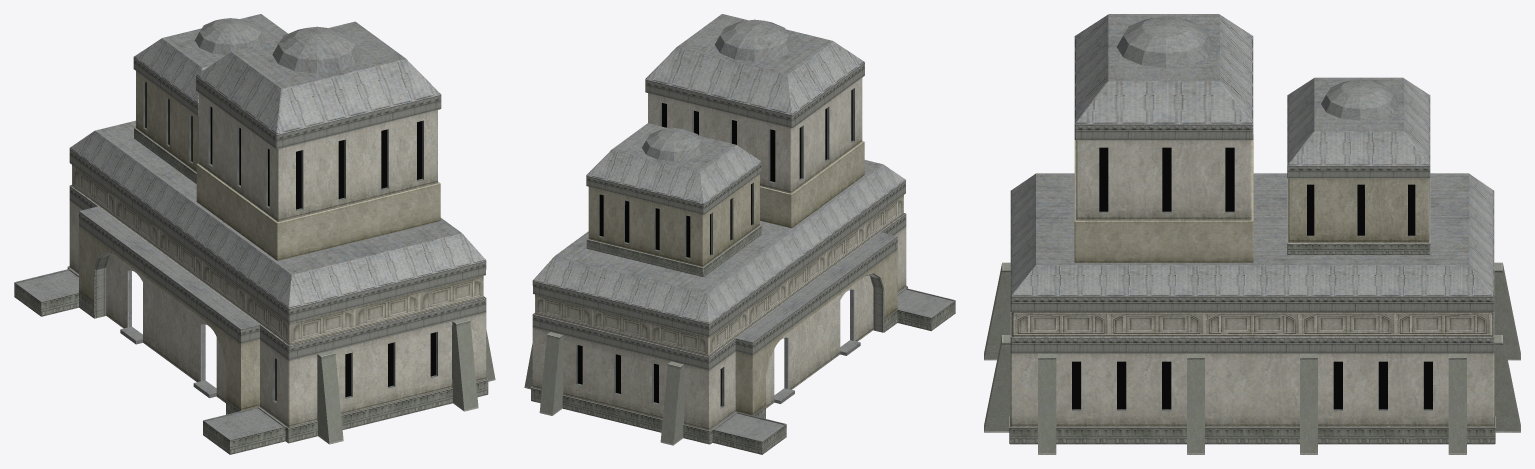
Rendered from thm_corl_imprv_historic_24x16_s02_r0_mesh_l0.fbx.
3 renders of one model, left to right at view 1: azimuth 30°, elevation 25°; view 2: azimuth 150°, elevation 25°; view 3: azimuth 270°, elevation 25°, orthographic. The views are drawn at different scales.
Parts seen in each view (by area): view 1: mesh_node; view 2: mesh_node; view 3: mesh_node.
Part boxes in pixels (box(x1,y1,x2,y2)): mesh_node: box(14, 14, 495, 454); mesh_node: box(524, 14, 955, 454); mesh_node: box(984, 14, 1520, 454).
Bounding box in the file's own units: 15.54 × 17.95 × 23.81.
